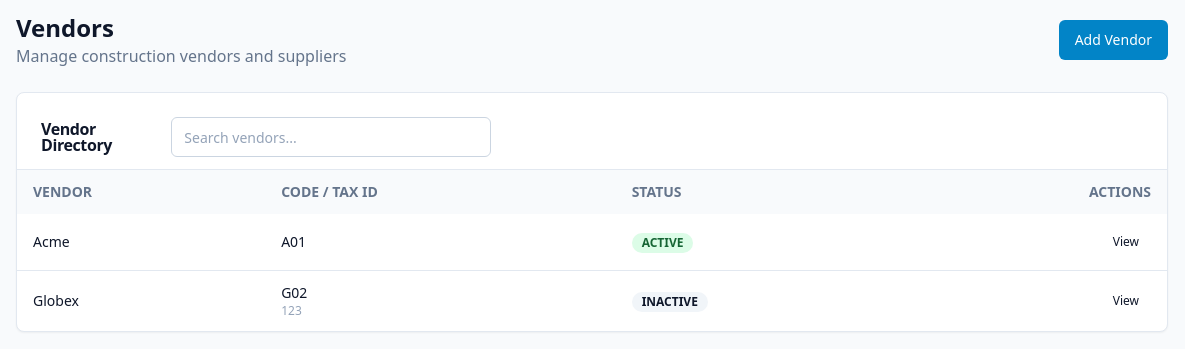
Scenario: Vendors Web Module › List View › renders list and filters correctly
This screenshot has width=1185, height=349.
Expected: the link "Acme" is shown, [33,232,70,251]
Expected: the link "Globex" is shown, [33,291,79,310]
In the field with placeholder "Search vendors...": (331, 137) [171,117,491,157], type "Acme"
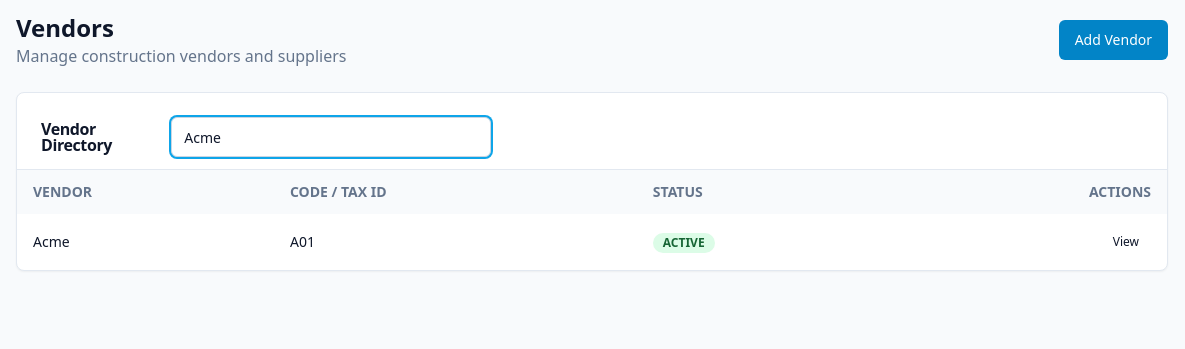
Expected: the link "Acme" is shown, [33,232,70,251]
Now the link "Globex" is gone
